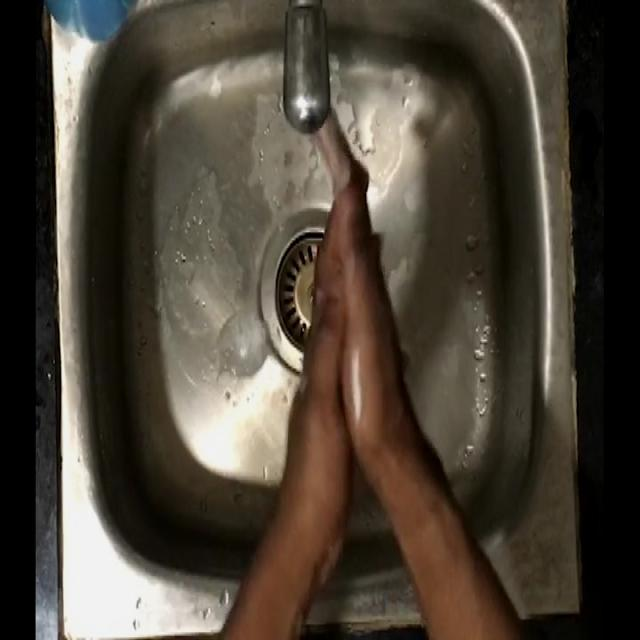step_1: (282, 98, 404, 497)
